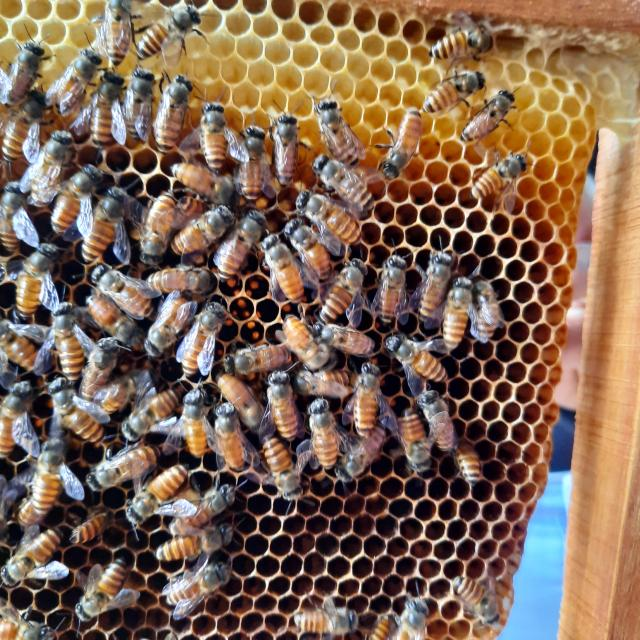honeybee: (293, 181, 365, 242), (45, 377, 106, 445), (125, 464, 191, 526), (75, 556, 131, 626), (4, 521, 64, 585), (121, 384, 188, 441), (420, 21, 511, 62), (377, 104, 426, 180), (142, 4, 202, 66), (184, 301, 232, 378), (86, 265, 159, 315), (318, 149, 378, 208), (449, 573, 507, 634), (174, 481, 238, 535), (90, 444, 162, 492), (458, 86, 523, 137), (164, 562, 234, 609), (318, 257, 371, 319), (146, 293, 195, 359), (462, 152, 526, 202), (214, 209, 256, 284), (43, 169, 97, 227), (338, 422, 389, 483), (0, 98, 50, 159), (22, 130, 69, 194), (157, 522, 236, 560), (261, 432, 303, 503), (86, 75, 124, 153), (424, 64, 485, 112), (0, 34, 44, 100), (15, 244, 57, 313), (159, 76, 198, 150), (77, 192, 122, 255), (268, 113, 306, 187), (0, 381, 36, 459), (93, 296, 142, 350), (285, 316, 332, 372), (53, 44, 94, 108), (199, 101, 235, 173), (262, 234, 300, 302), (221, 376, 266, 432), (51, 303, 85, 377), (413, 248, 451, 314), (391, 338, 444, 385), (31, 440, 66, 510), (291, 223, 331, 284), (214, 398, 246, 474), (321, 95, 359, 158), (294, 602, 357, 640), (398, 404, 430, 477), (172, 204, 225, 248), (379, 252, 411, 324), (440, 279, 472, 350), (313, 320, 378, 354), (307, 396, 339, 464), (99, 0, 130, 70), (264, 369, 296, 436), (1, 318, 40, 372), (0, 183, 32, 247), (182, 388, 210, 461), (352, 361, 380, 434), (422, 391, 457, 449), (236, 126, 264, 196), (145, 184, 175, 249), (78, 338, 114, 392), (221, 345, 295, 371), (467, 281, 496, 344), (391, 590, 425, 640), (128, 66, 148, 144), (300, 364, 350, 395), (150, 271, 217, 294), (453, 446, 488, 489), (68, 513, 112, 545), (100, 374, 135, 414), (149, 413, 156, 416), (139, 358, 141, 363)
